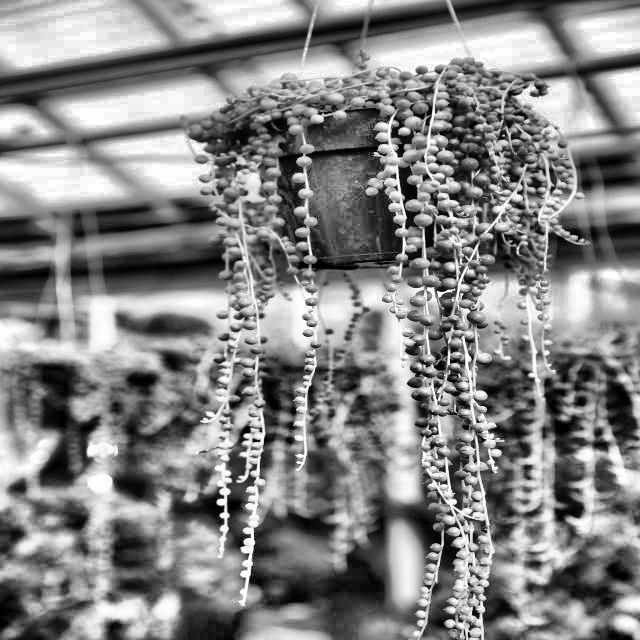plants: (198, 62, 536, 600)
